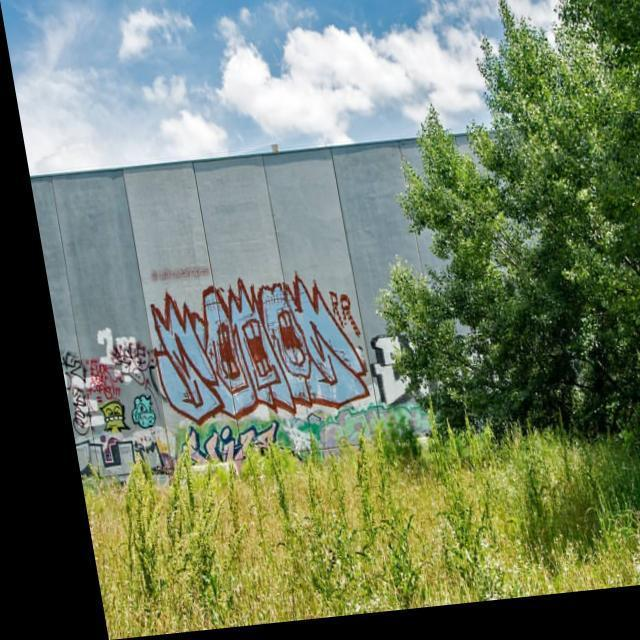-: (132, 293, 356, 427), (95, 331, 138, 388), (108, 389, 144, 432), (45, 332, 75, 381), (53, 390, 80, 438), (69, 360, 103, 398), (84, 406, 114, 434)
